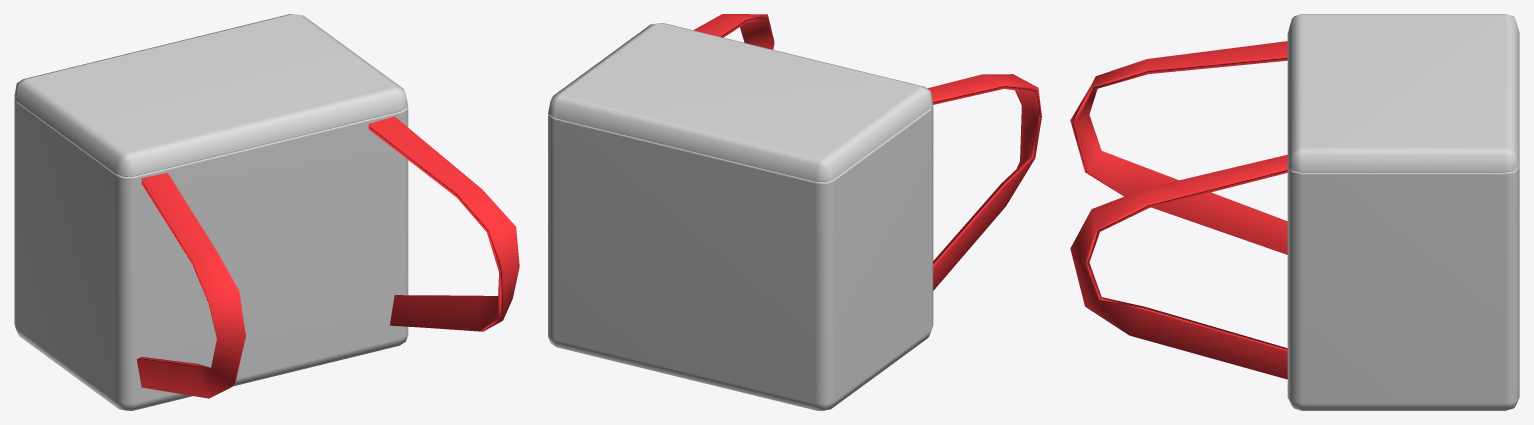
3 views of the same model, side by side, from view 1: azimuth 30°, elevation 25°; view 2: azimuth 150°, elevation 25°; view 3: azimuth 270°, elevation 25° (orthographic). The views are drawn at different scales.
Parts seen in each view (by area): view 1: Box_3; view 2: Box_3; view 3: Box_3.
Part boxes in pixels (bbox=[...]): Box_3: bbox=[14, 14, 519, 410]; Box_3: bbox=[548, 14, 1041, 410]; Box_3: bbox=[1070, 14, 1519, 410].
Bounding box in the file's own units: 0.6214 × 0.5006 × 0.774.
